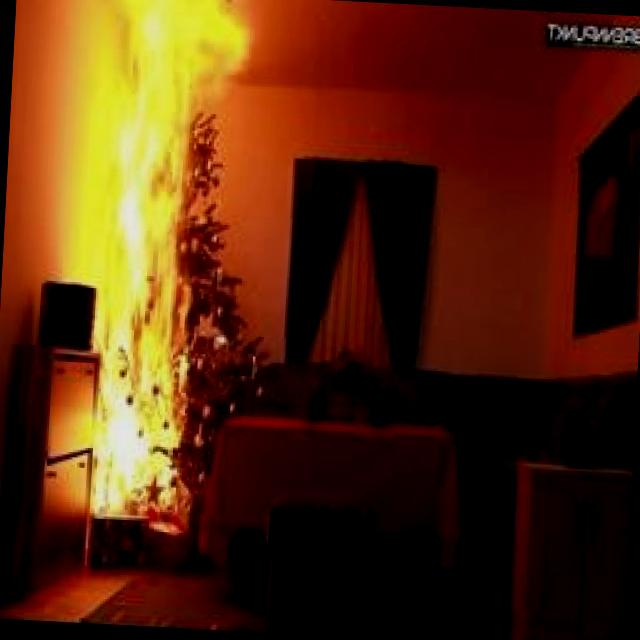fire: (0, 0, 265, 538)
